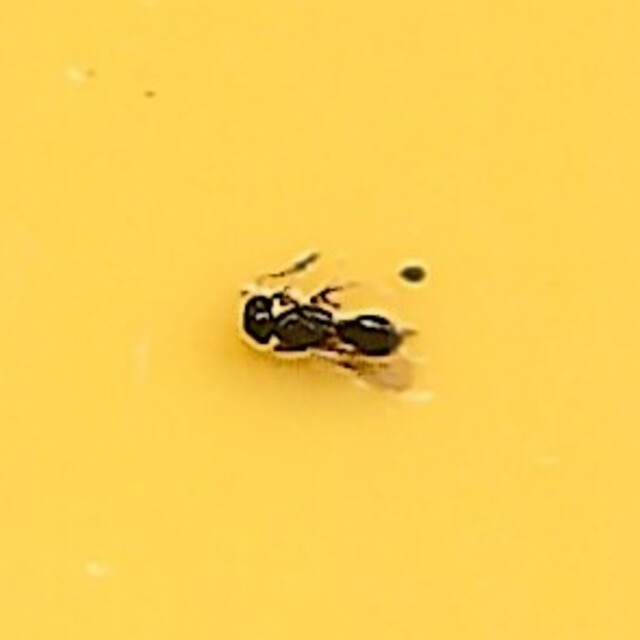Hymenoptera: (217, 241, 423, 399)
